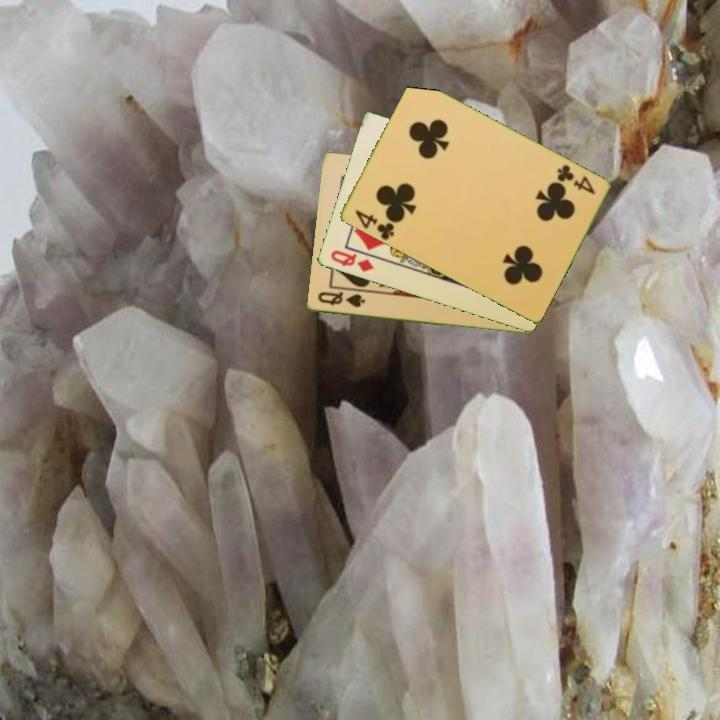4c: (351, 206, 399, 243), (553, 161, 598, 198)
Qd: (327, 247, 376, 275)
Qs: (314, 288, 368, 311)
